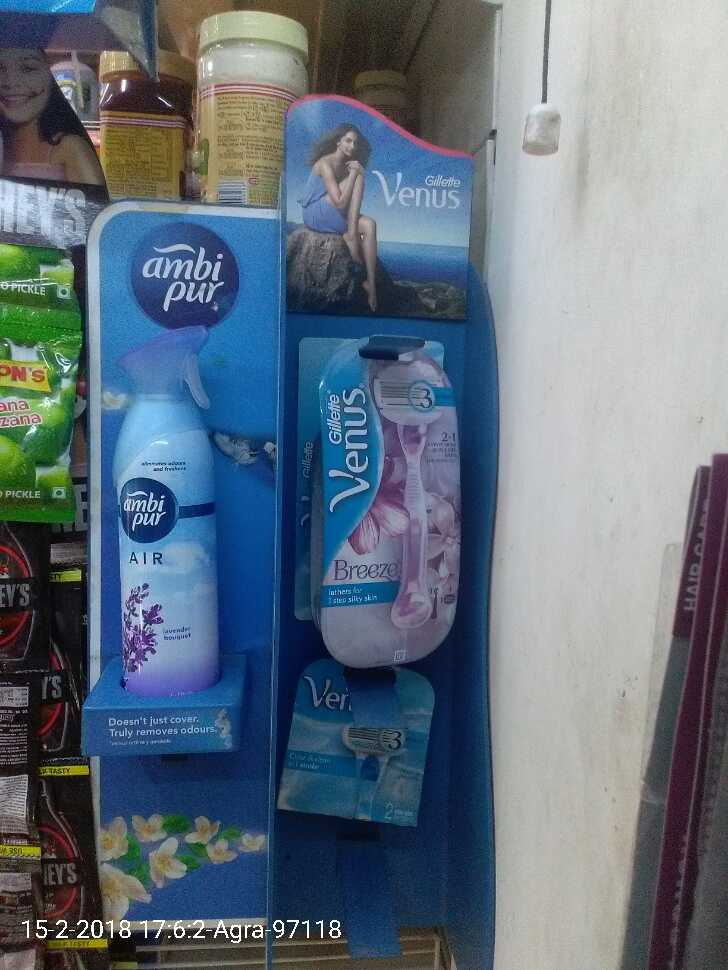beauty: (313, 331, 467, 660), (283, 653, 438, 840)
home: (102, 307, 233, 691)
